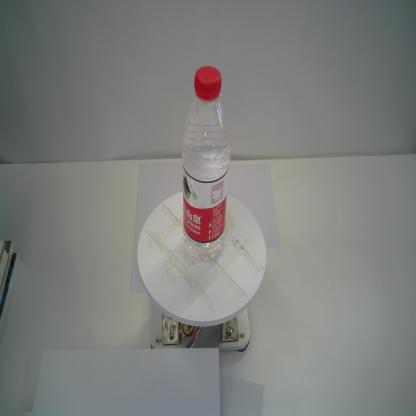Drink: (180, 66, 232, 263)
